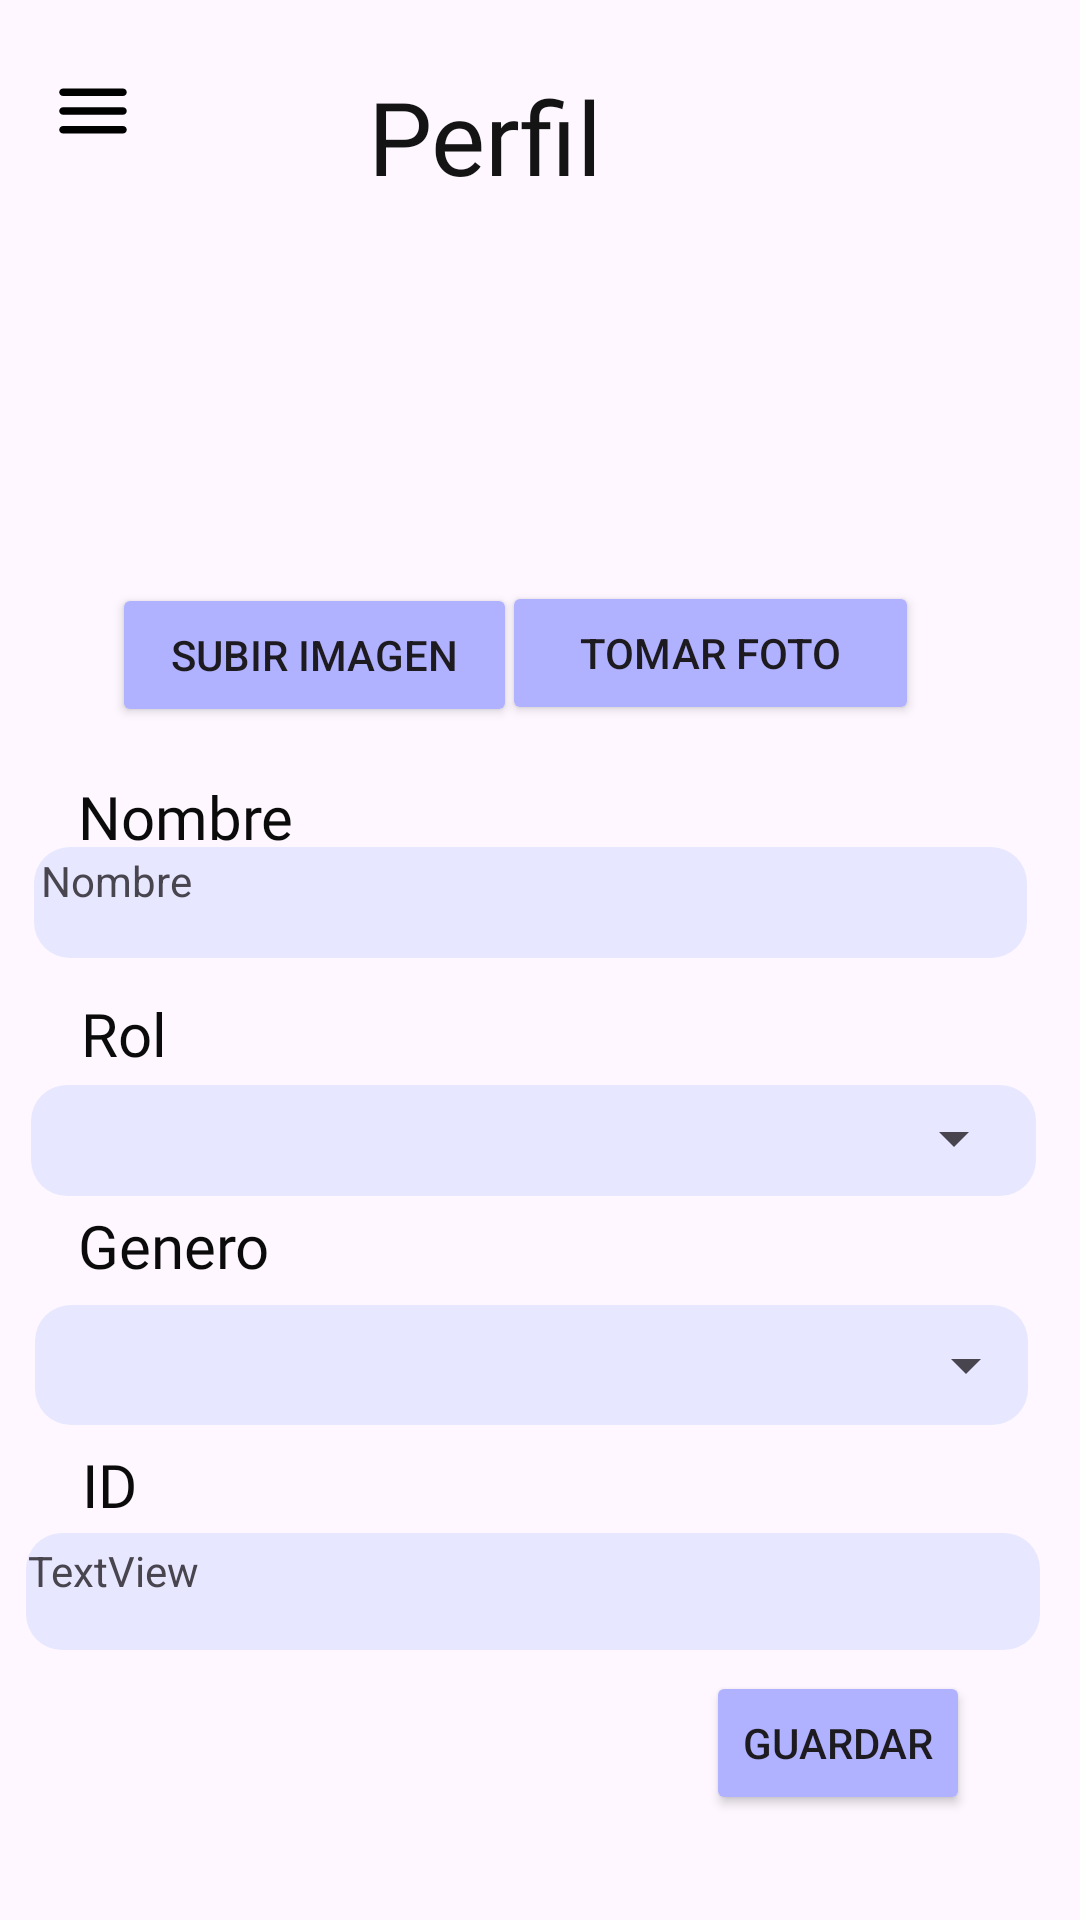

Where icons sit on this 1080×1920 app screen, as Rect(x1, y1, x2, y2):
menu: Rect(59, 88, 127, 134)
